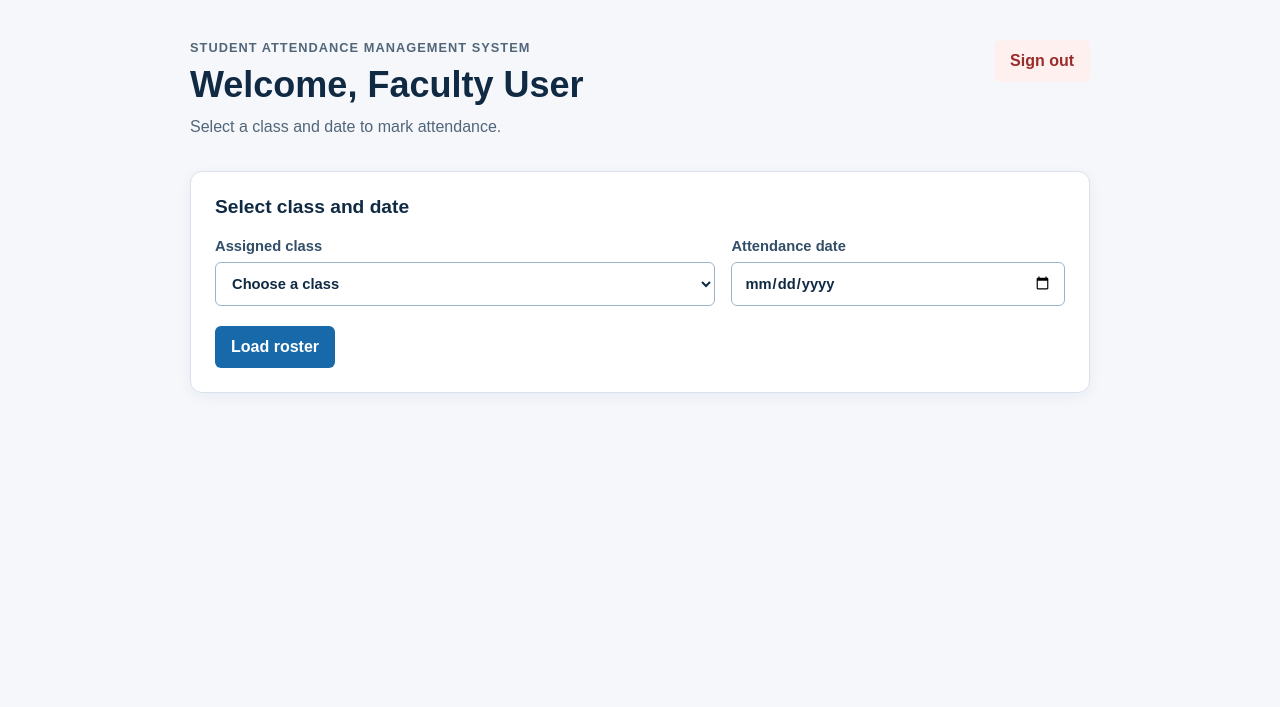
Test case: changing class clears the old roster and loads the new class roster
Select "CS301 — Database Systems · Section A · 2026-27" in the dropdown with id "assigned-class". click: (465, 284)
box: [215, 262, 715, 306]
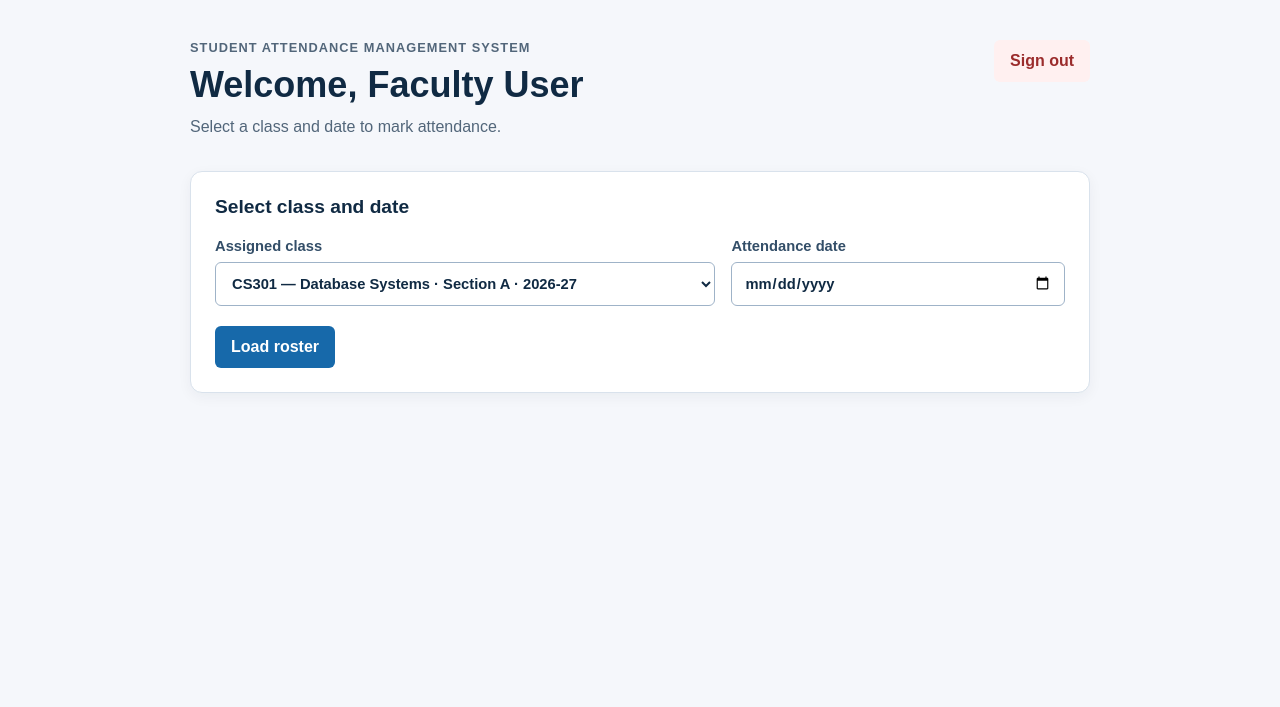
Select "CS301 — Database Systems · Section A · 2026-27" in the dropdown with id "assigned-class". click: (465, 284)
box: [215, 262, 715, 306]
Type "2026-10-23" into the date field with id "attendance-date". click: (898, 284)
box: [731, 262, 1065, 306]
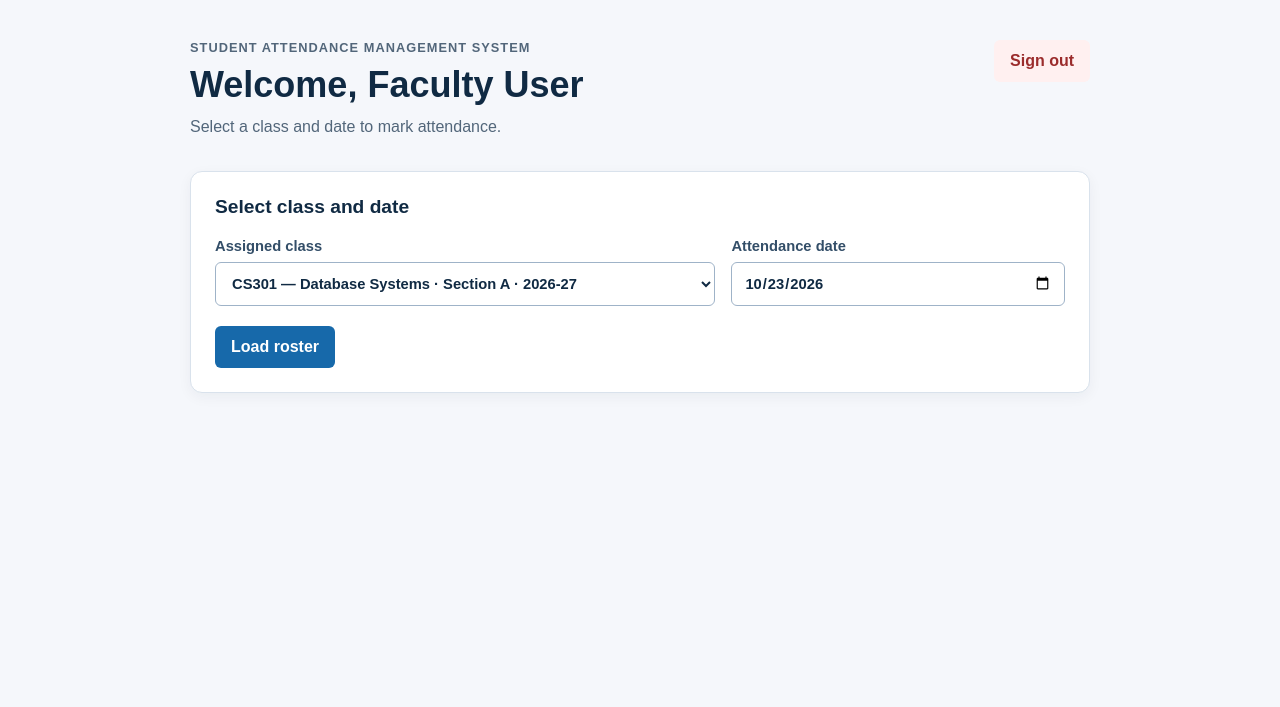
Submit the form, box [215, 238, 1065, 368]
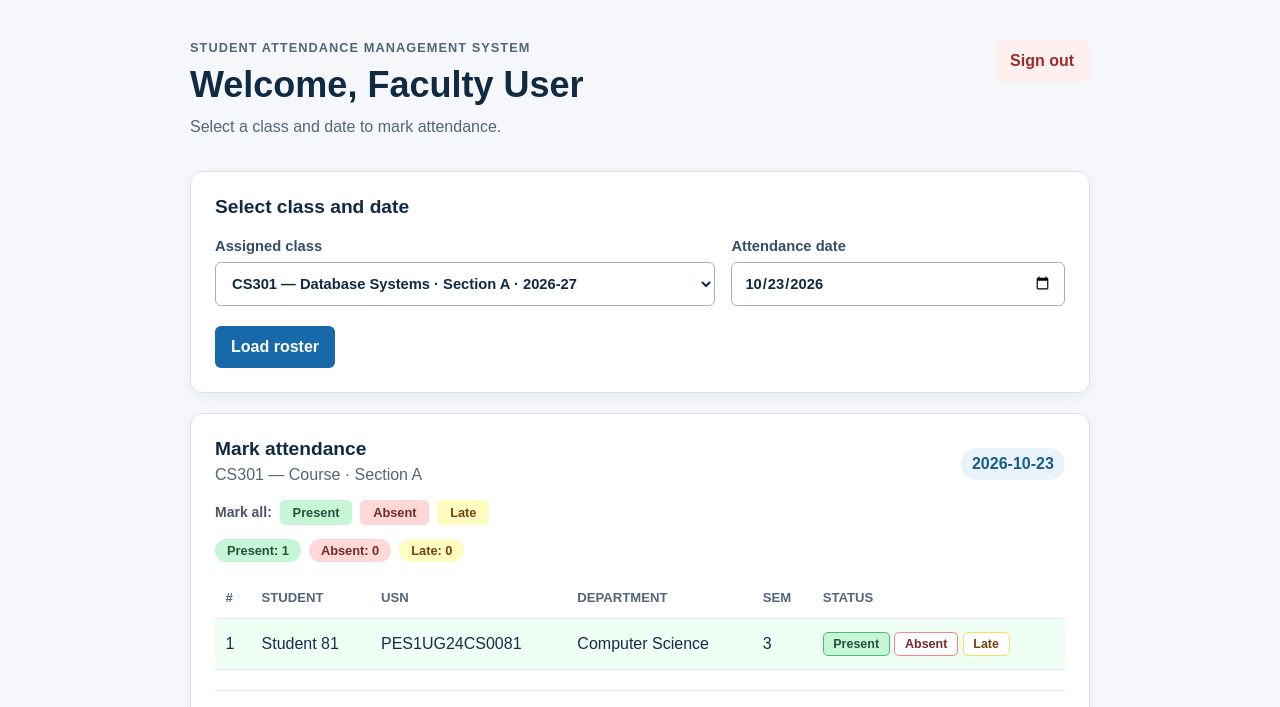
Check: the text "Student 81" is shown, box [251, 619, 371, 669]
Select "CS302 — Operating Systems · Section B · 2026-27" in the dropdown with id "assigned-class". click: (465, 284)
box: [215, 262, 715, 306]
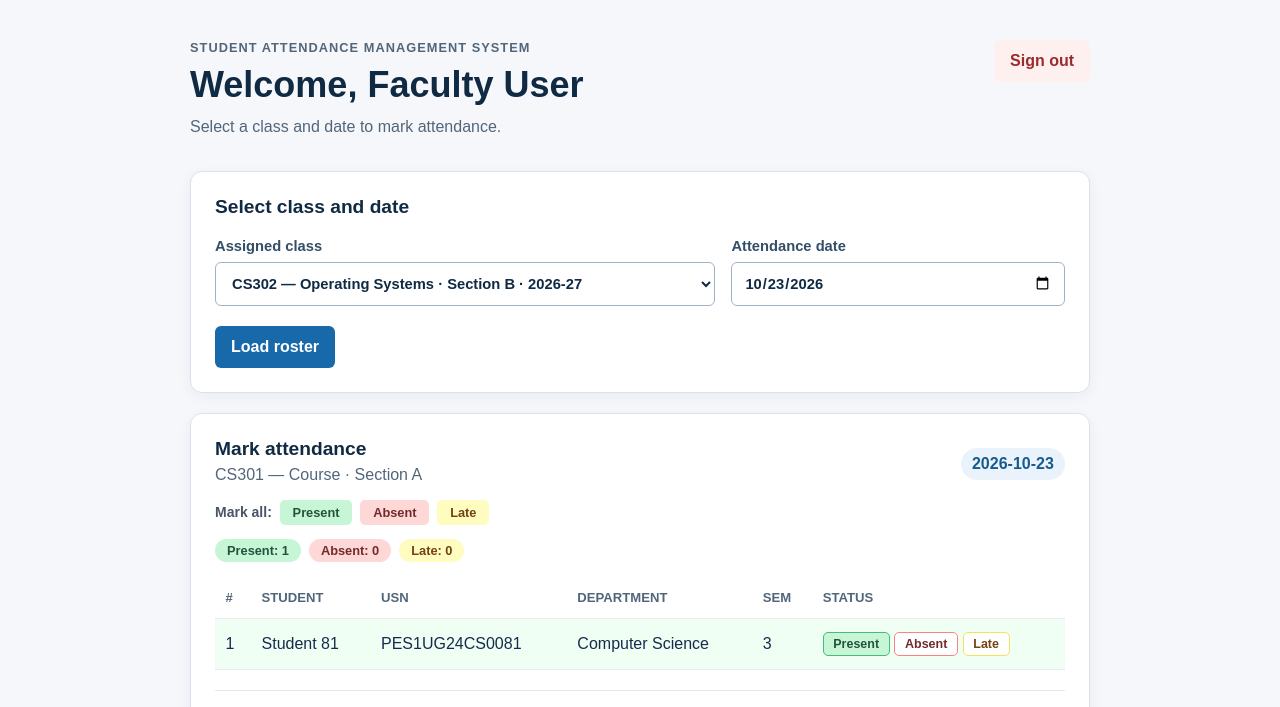
Select "CS302 — Operating Systems · Section B · 2026-27" in the dropdown with id "assigned-class". click: (465, 284)
box: [215, 262, 715, 306]
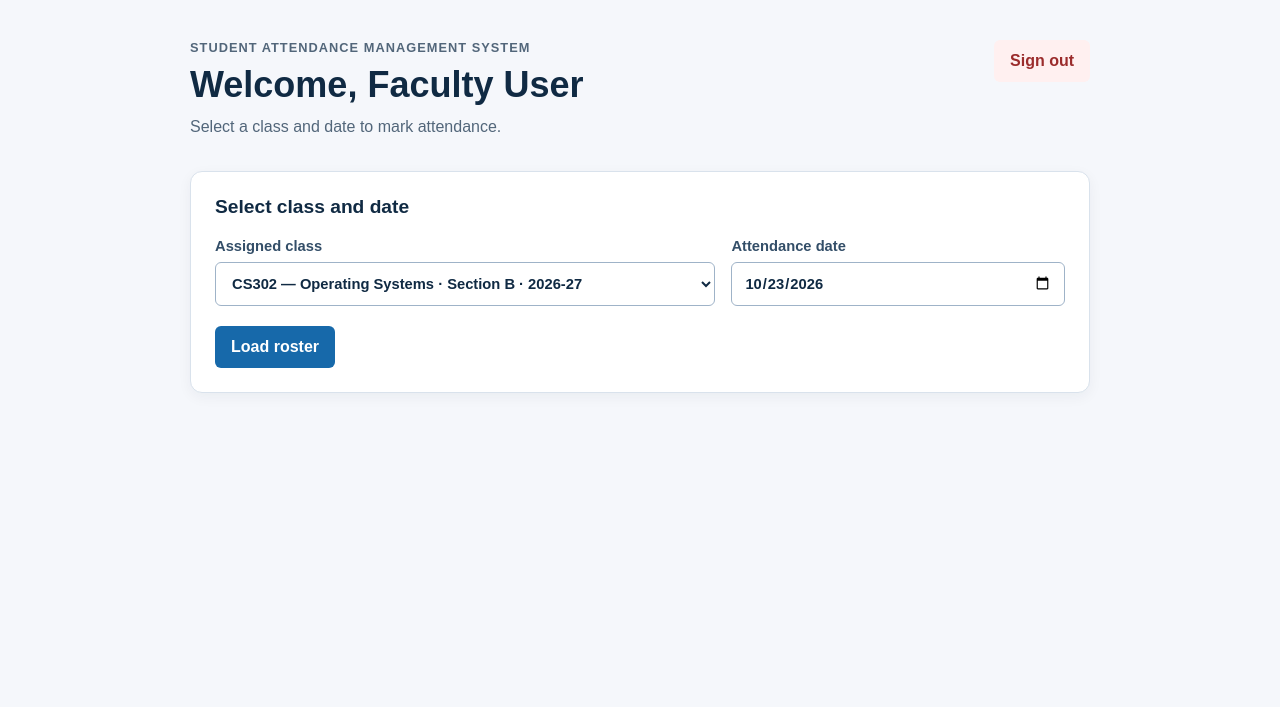
Check: the text "Student 81" is gone
Submit the form, box [215, 238, 1065, 368]
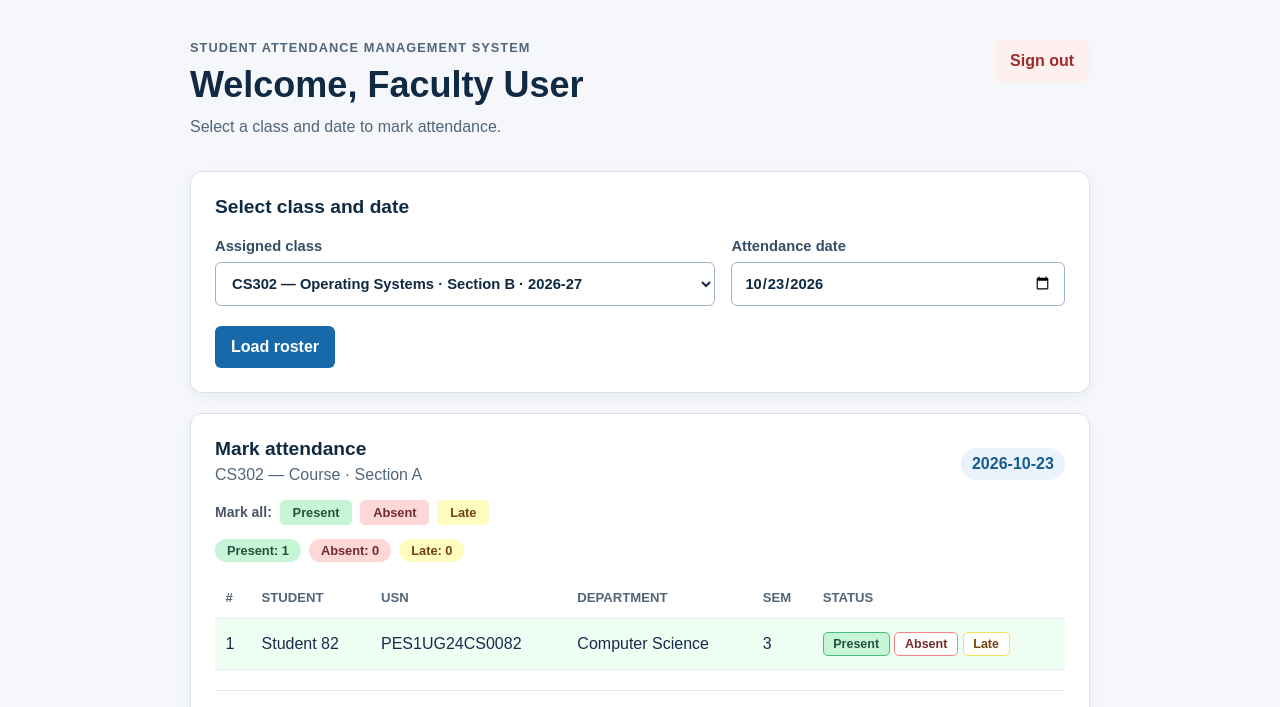
Check: the text "Student 82" is shown, box [251, 619, 371, 669]
